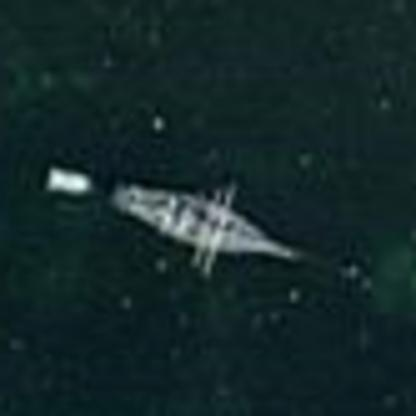ship: (36, 154, 308, 300)
